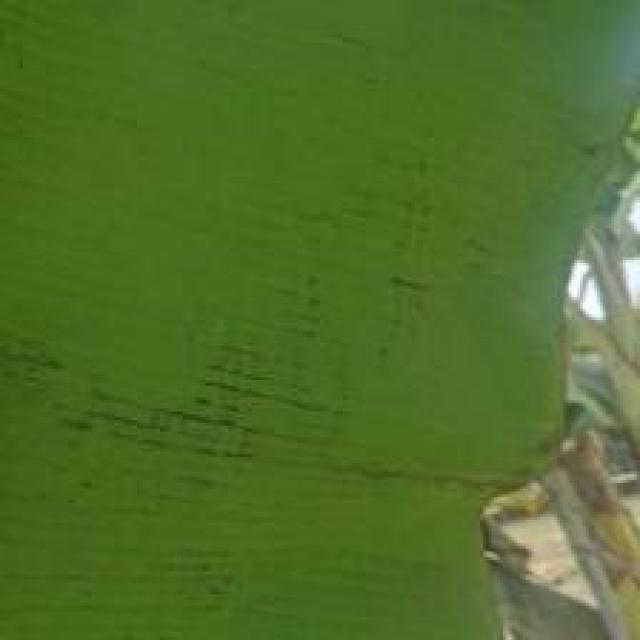Black_leaf_spot: (0, 0, 540, 589)
